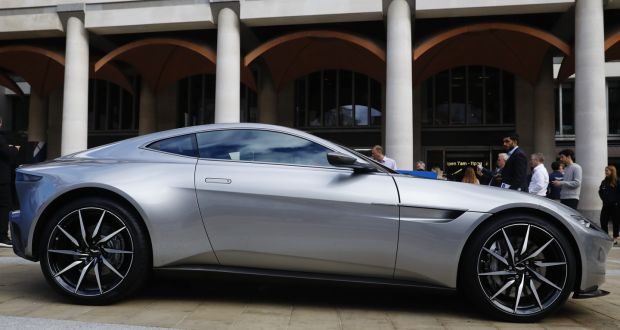car: (17, 120, 611, 322)
